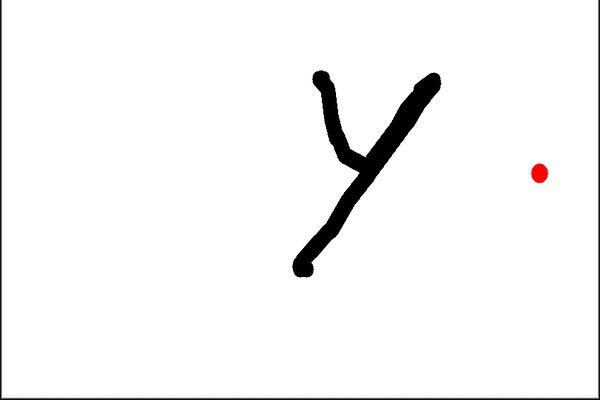Y: (275, 63, 452, 298)
